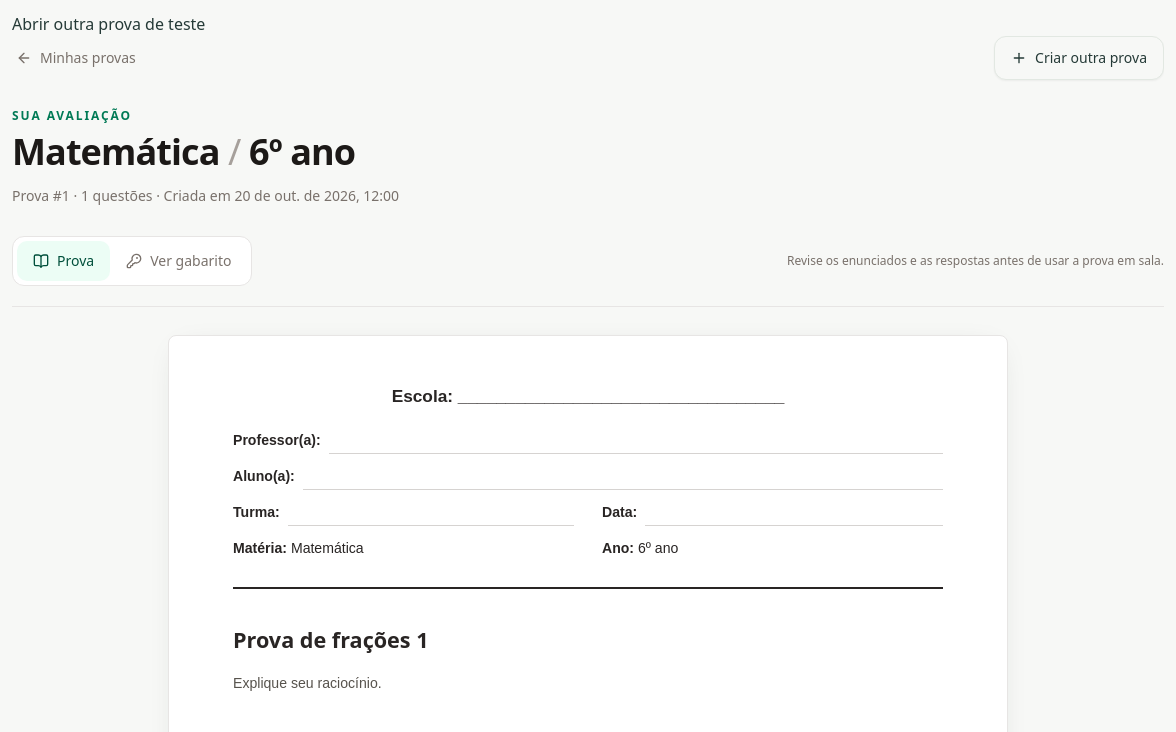
Test: leitura da prova e acesso separado ao gabarito › busca respostas somente por ação explícita e não revela o gabarito ao trocar de prova
Check: the text "RESPOSTA EXCLUSIVA DO GABARITO 1" is not shown
Click the button "Ver gabarito" at (179, 261), box [110,241,247,281]
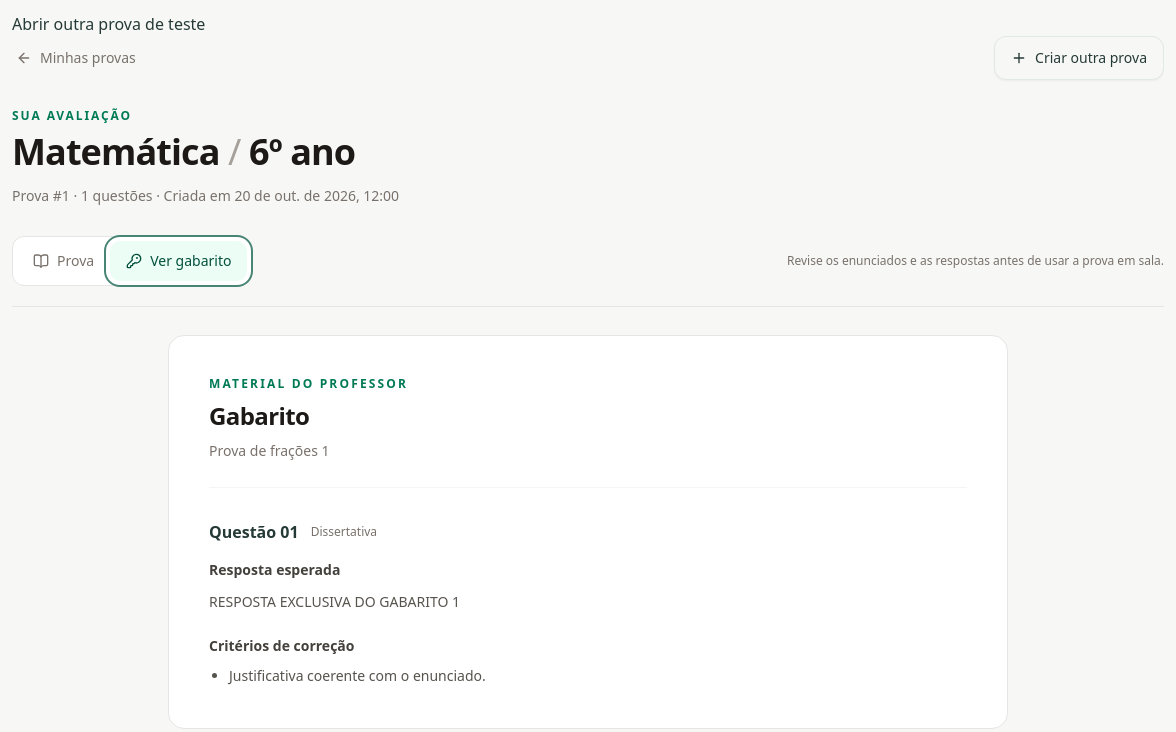
Check: the text "RESPOSTA EXCLUSIVA DO GABARITO 1" is shown, box [209,592,460,611]
Click the button "Prova" at (64, 261), box [17,241,110,281]
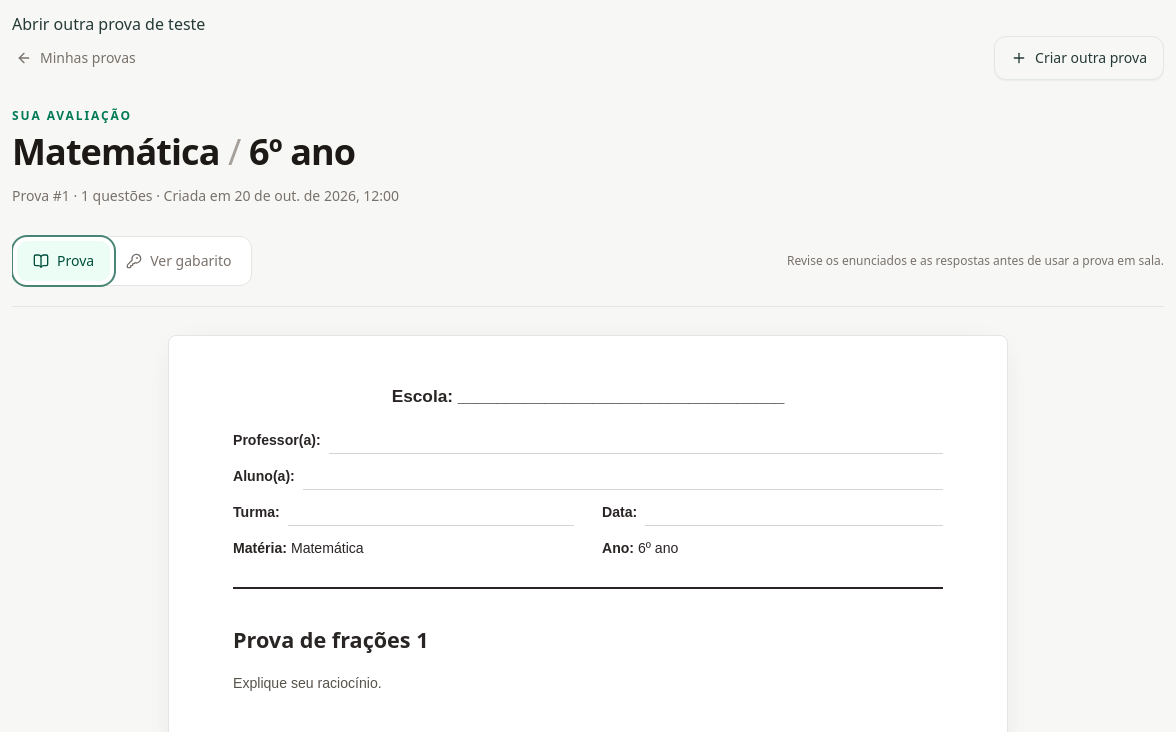
Check: the text "RESPOSTA EXCLUSIVA DO GABARITO 1" is gone
# Abre novamente a resposta em cache e muda o ID sem desmontar o leitor.
Click the button "Ver gabarito" at (179, 261), box [110,241,247,281]
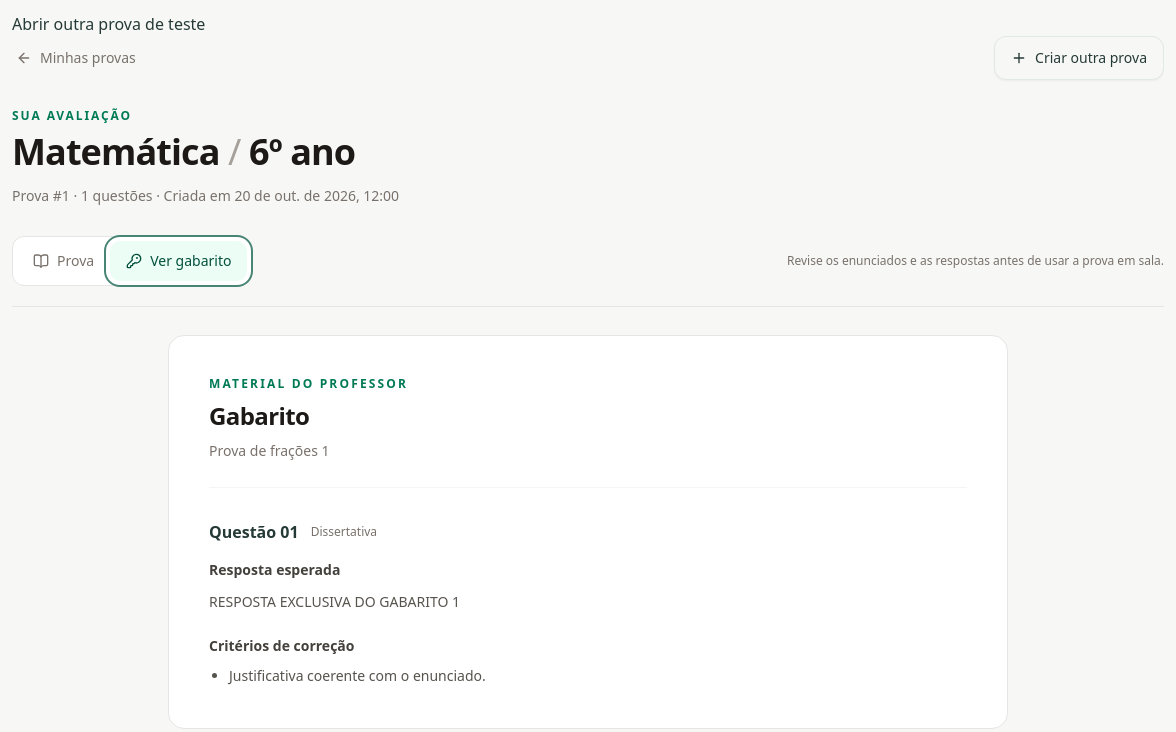
Check: the text "RESPOSTA EXCLUSIVA DO GABARITO 1" is shown, box [209,592,460,611]
Click the link "Abrir outra prova de teste" at (109, 24), box [12,13,205,35]
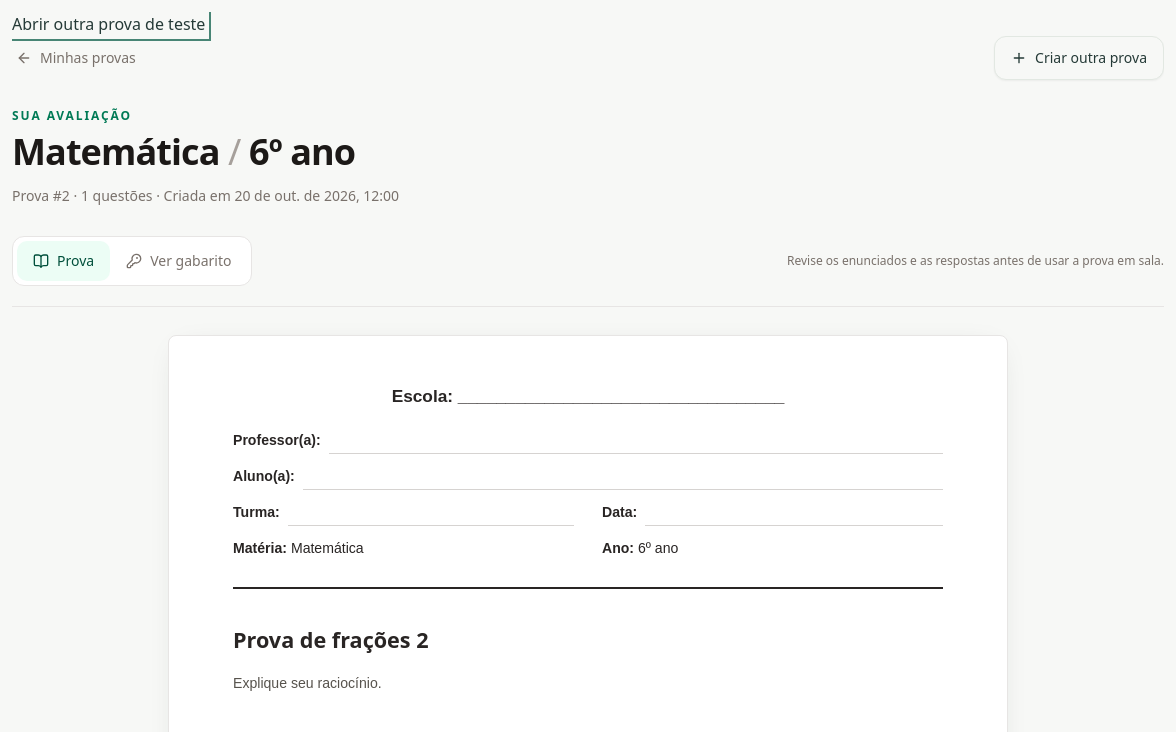
Check: the text "RESPOSTA EXCLUSIVA DO GABARITO 2" is not shown
Check: the text "RESPOSTA EXCLUSIVA DO GABARITO 1" is gone
Click the button "Ver gabarito" at (179, 261), box [110,241,247,281]
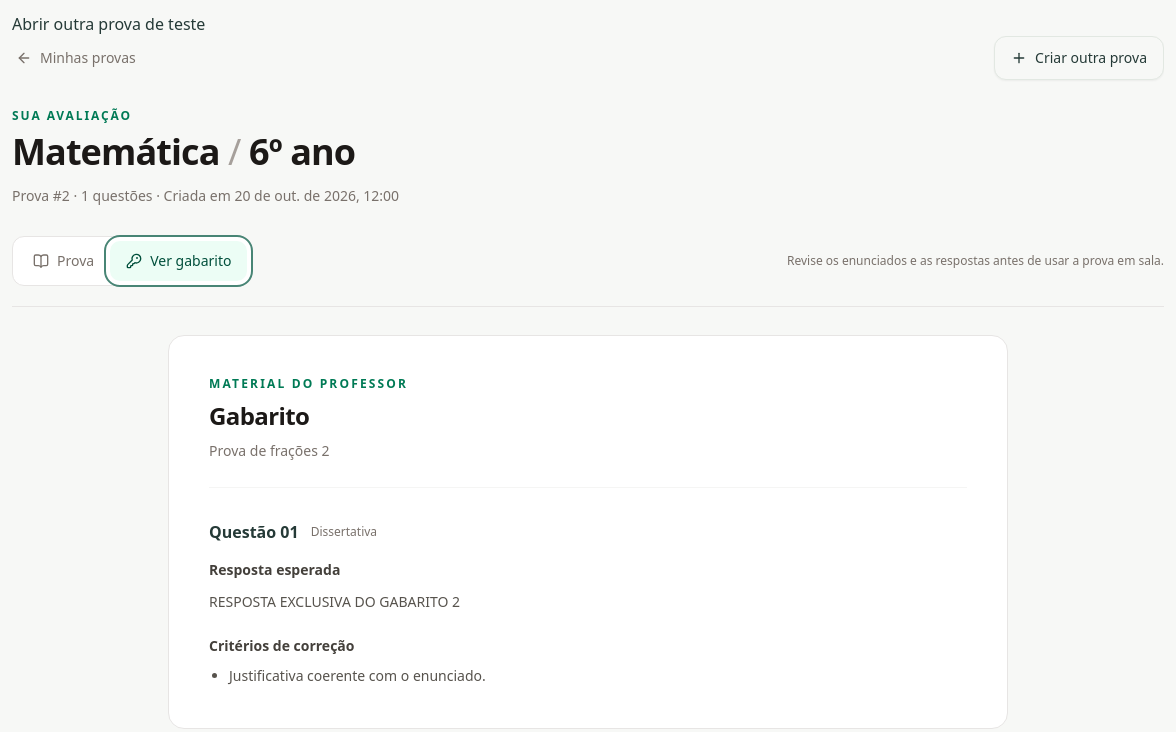
Check: the text "RESPOSTA EXCLUSIVA DO GABARITO 2" is shown, box [209,592,460,611]
